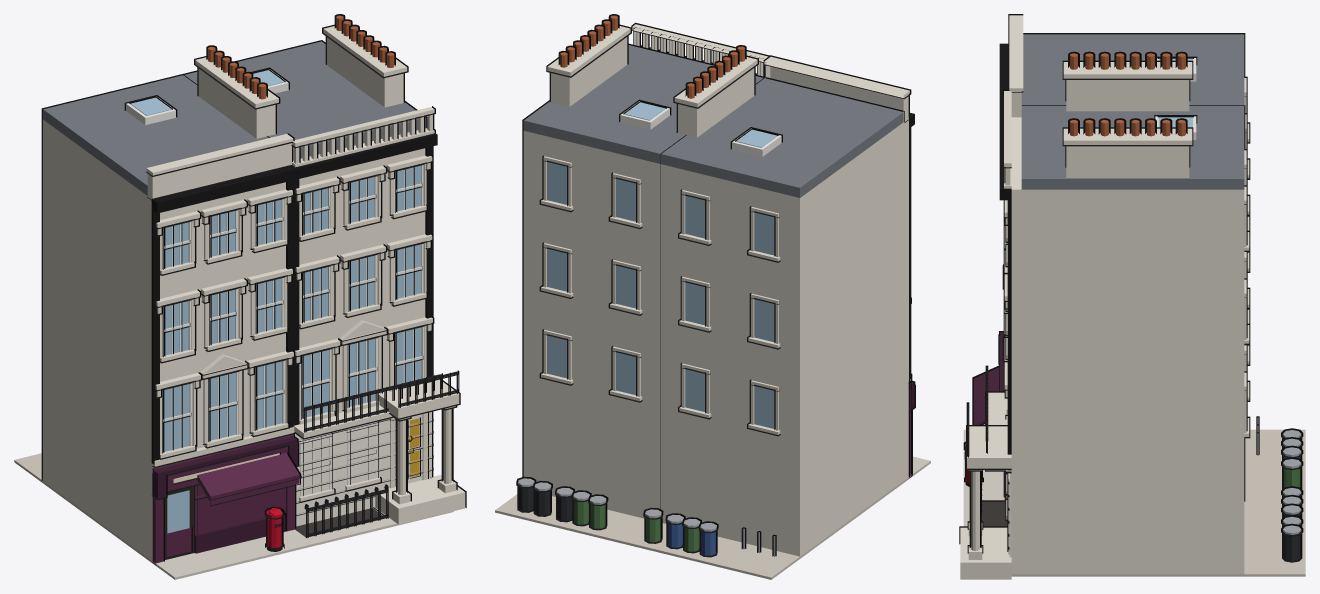
File: Blok_duz_4k_2.fbx
3 views of the same model, side by side, from view 1: azimuth 30°, elevation 25°; view 2: azimuth 150°, elevation 25°; view 3: azimuth 270°, elevation 25° (orthographic). The views are drawn at different scales.
Visible parts, largest first — view 1: Blok_duz_4k_2; view 2: Blok_duz_4k_2; view 3: Blok_duz_4k_2.
Part boxes in pixels (<box>): Blok_duz_4k_2: <box>14,14,466,579</box>; Blok_duz_4k_2: <box>495,14,930,579</box>; Blok_duz_4k_2: <box>959,14,1305,579</box>.
Bounding box in the file's own units: 10.45 × 14.52 × 10.13.
